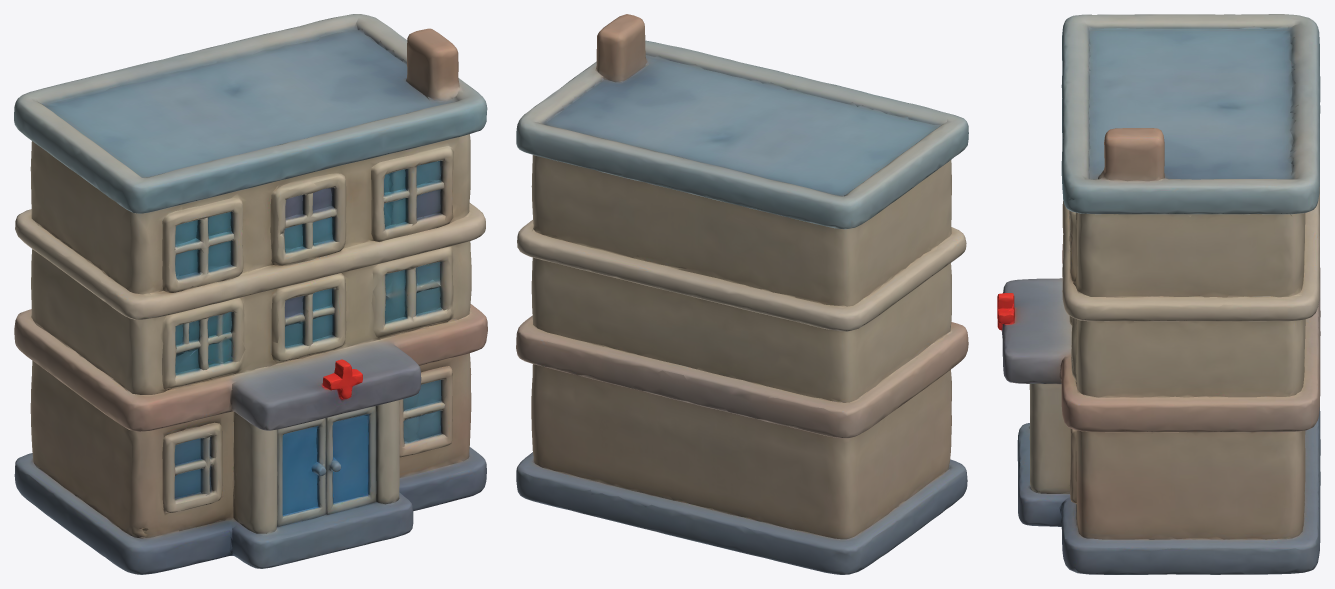
Rendered from hospital.glb.
3 renders of one model, left to right at view 1: azimuth 30°, elevation 25°; view 2: azimuth 150°, elevation 25°; view 3: azimuth 270°, elevation 25°, orthographic. The views are drawn at different scales.
Parts seen in each view (by area): view 1: Mesh; view 2: Mesh; view 3: Mesh.
Boxes of the visible parts, bbox=[...] form: Mesh: bbox=[14, 14, 487, 574]; Mesh: bbox=[516, 14, 968, 574]; Mesh: bbox=[997, 14, 1320, 574].
Bounding box in the file's own units: 1.66 × 1.9 × 1.28.
Materials: 1 (1 with a texture image).
